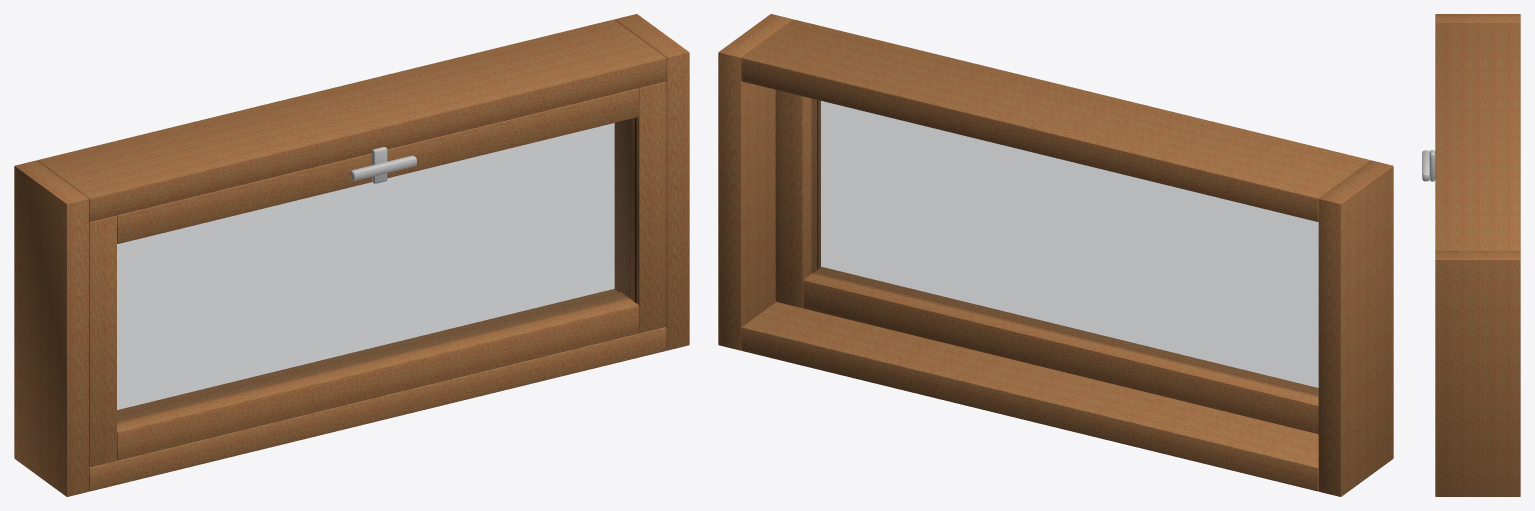
File: reca18QE6L4FAyUbf.glb
3 renders of one model, left to right at view 1: azimuth 30°, elevation 25°; view 2: azimuth 150°, elevation 25°; view 3: azimuth 270°, elevation 25°, orthographic. The views are drawn at different scales.
Parts seen in each view (by area): view 1: fenetre_salle_de_bain__ouvrant, fenetre_salle_de_bain__cadre; view 2: fenetre_salle_de_bain__cadre, fenetre_salle_de_bain__ouvrant; view 3: fenetre_salle_de_bain__cadre, fenetre_salle_de_bain__ouvrant.
Boxes of the visible parts, x1=… form: fenetre_salle_de_bain__ouvrant: x1=89, y1=81, x2=666, y2=467; fenetre_salle_de_bain__cadre: x1=14, y1=14, x2=689, y2=496; fenetre_salle_de_bain__cadre: x1=718, y1=14, x2=1393, y2=496; fenetre_salle_de_bain__ouvrant: x1=775, y1=90, x2=1318, y2=433; fenetre_salle_de_bain__cadre: x1=1435, y1=14, x2=1520, y2=496; fenetre_salle_de_bain__ouvrant: x1=1422, y1=150, x2=1435, y2=181.
Bounding box in the file's own units: 1.36 × 0.6099 × 0.229.
Materials: 4 (2 with a texture image).
